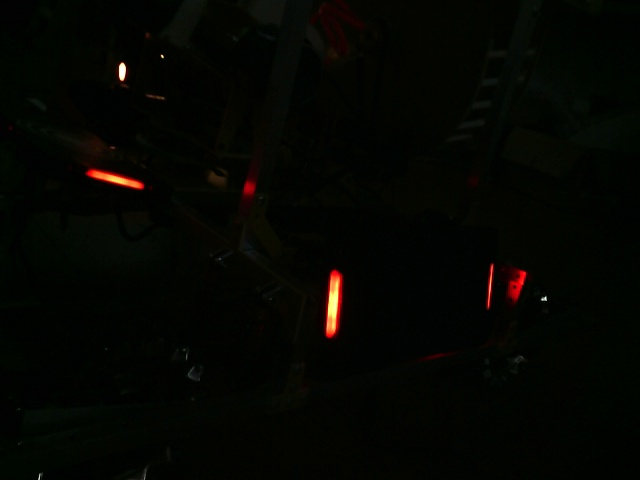lamp: (325, 267, 341, 340), (485, 262, 497, 310)
